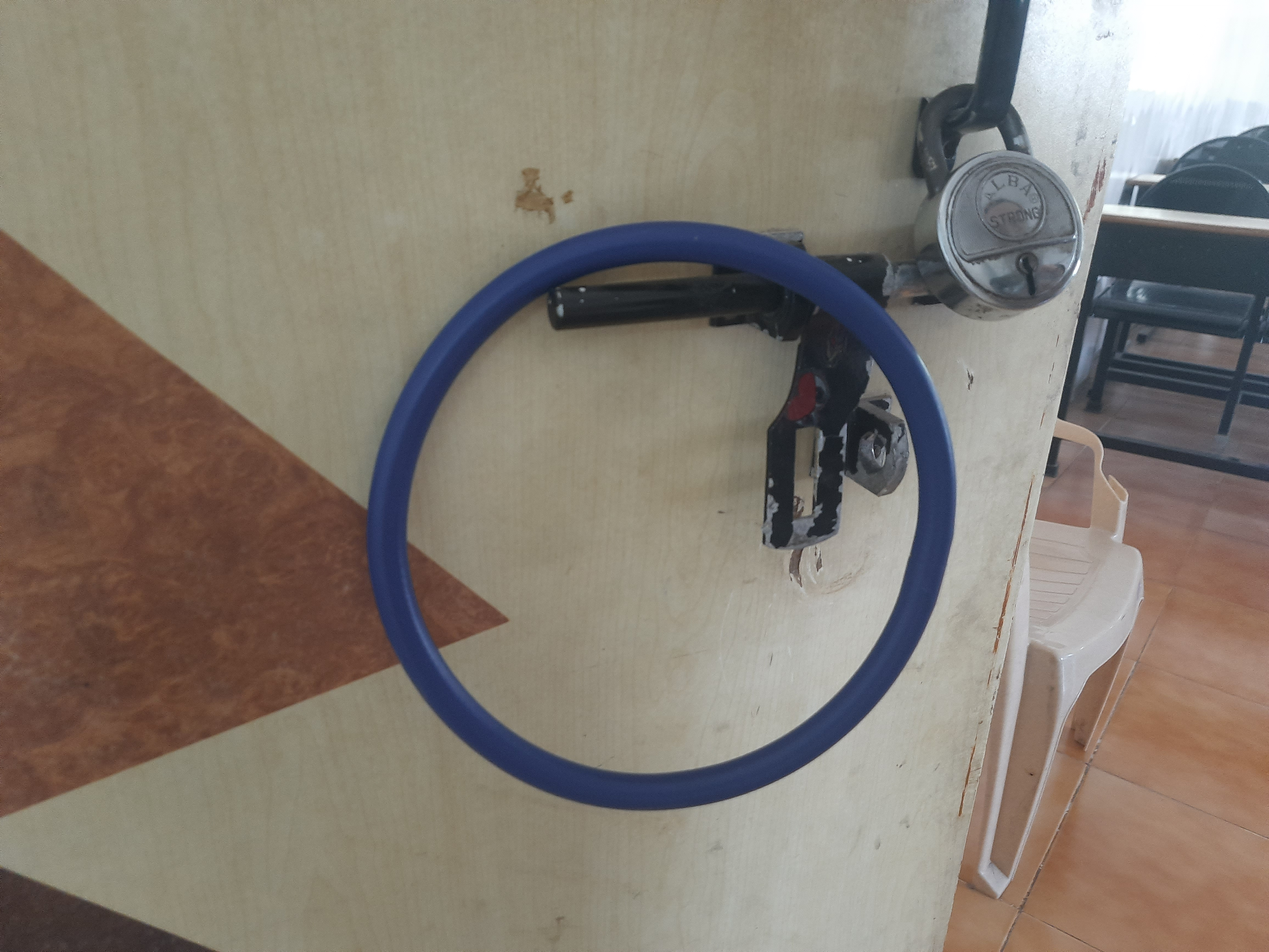Blue ring: (364, 225, 958, 807)
